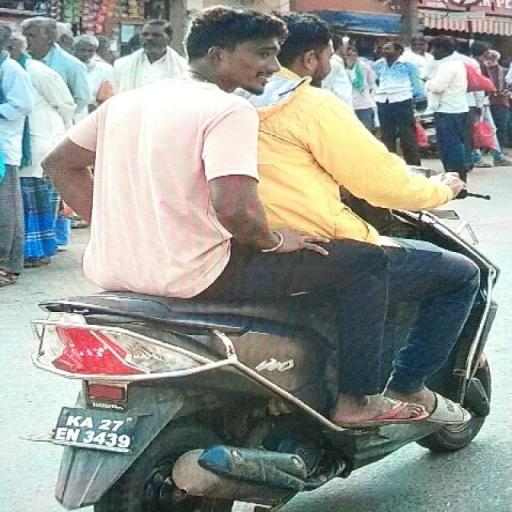bike: (18, 5, 500, 512)
numberplate: (51, 403, 138, 455)
withouthelmet: (185, 6, 283, 88), (283, 12, 332, 72)
